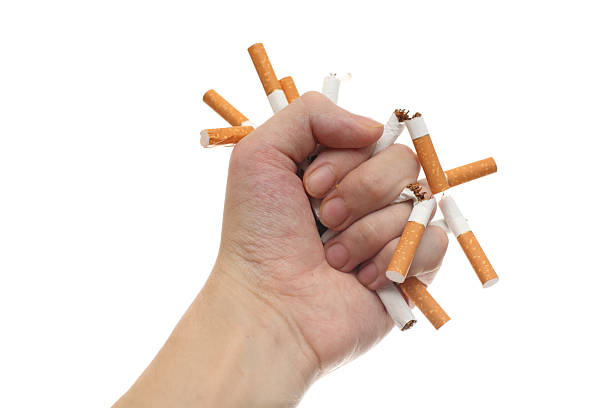cigarette: (439, 195, 500, 289), (384, 195, 437, 284), (404, 111, 450, 195), (417, 156, 498, 197), (245, 42, 289, 116), (401, 276, 452, 332), (195, 87, 258, 128), (369, 107, 408, 161), (374, 284, 416, 330), (196, 122, 262, 149), (390, 183, 422, 205), (322, 71, 340, 105), (278, 74, 299, 103)
